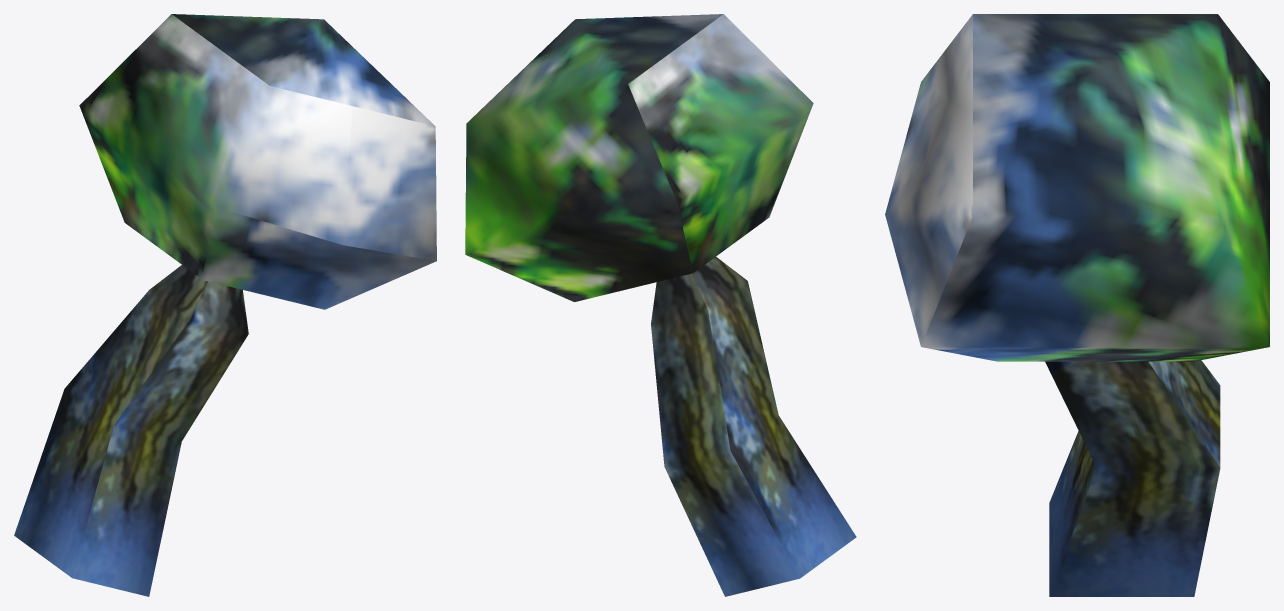
Rendered from Blue_MD_MainSquare_PROP04.fbx.
3 views of the same model, side by side, from view 1: azimuth 30°, elevation 25°; view 2: azimuth 150°, elevation 25°; view 3: azimuth 270°, elevation 25° (orthographic). The views are drawn at different scales.
Visible parts, largest first — view 1: Blue_MD_MainSquare_PROP04; view 2: Blue_MD_MainSquare_PROP04; view 3: Blue_MD_MainSquare_PROP04.
Part boxes in pixels (left/top/right/bottom): Blue_MD_MainSquare_PROP04: left=14, top=14, right=436, bottom=596; Blue_MD_MainSquare_PROP04: left=465, top=14, right=856, bottom=596; Blue_MD_MainSquare_PROP04: left=885, top=14, right=1269, bottom=596.
Bounding box in the file's own units: 0.1837 × 0.2725 × 0.1475.
